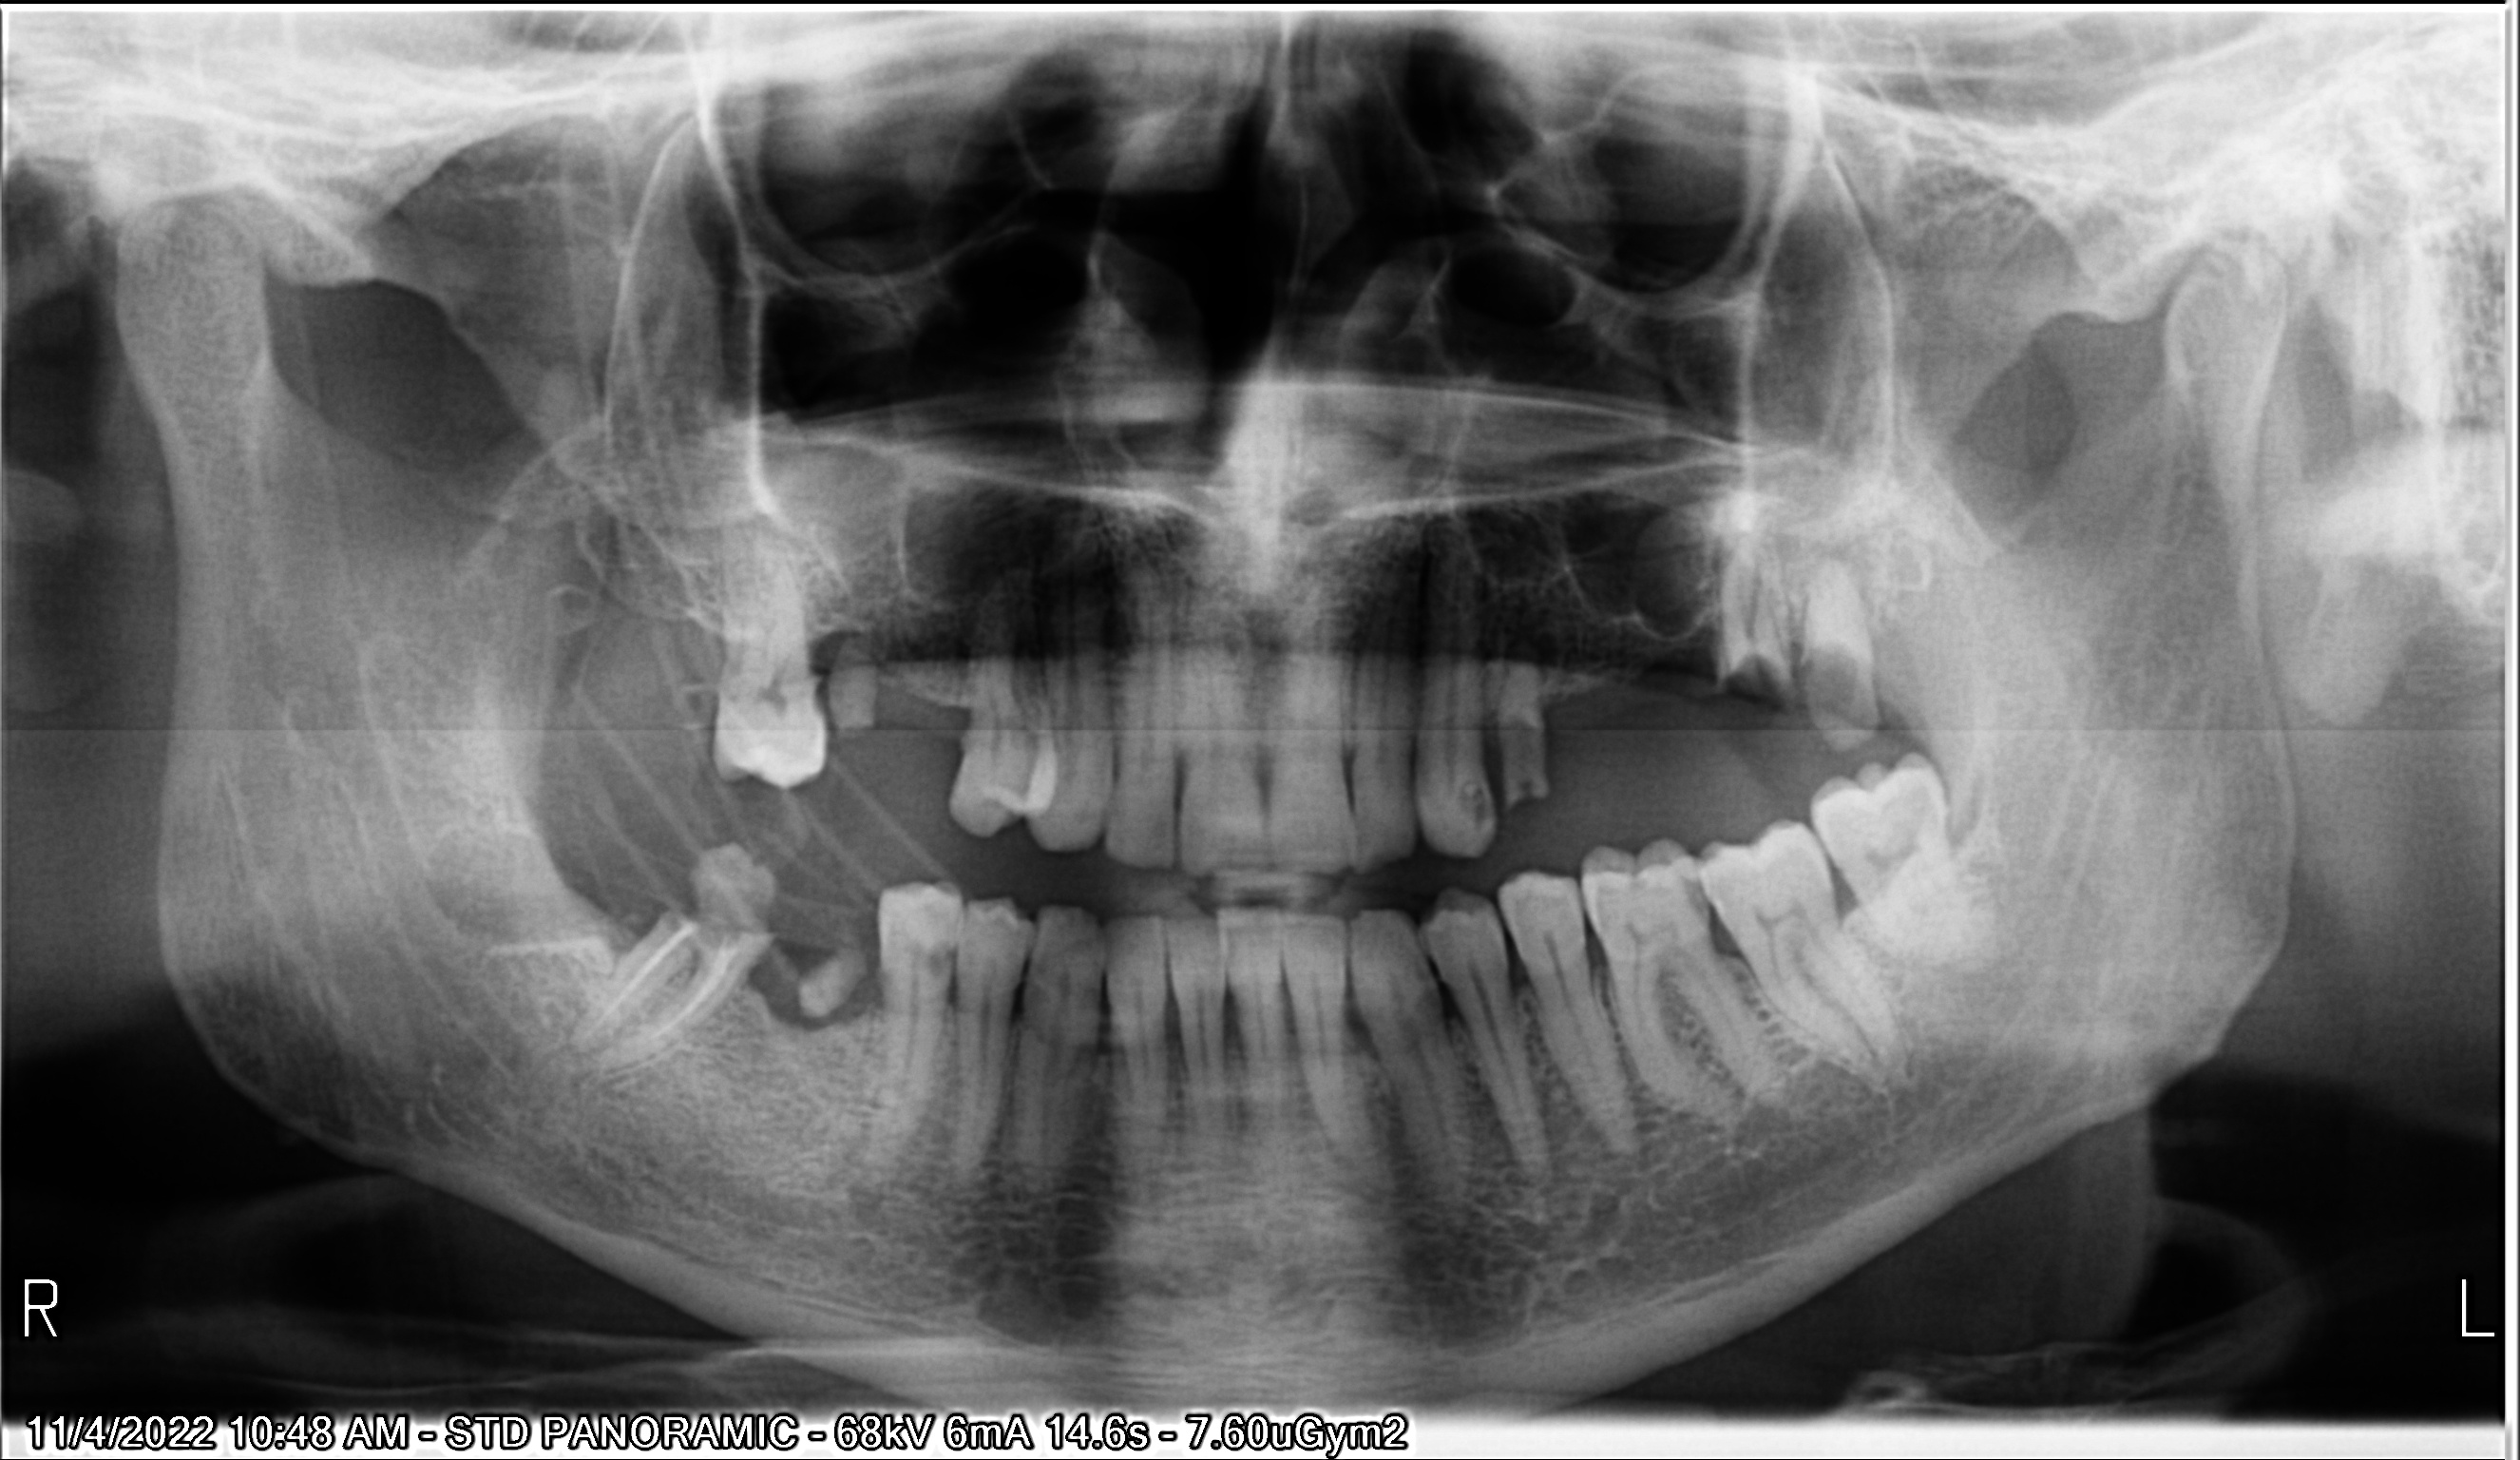API: (1490, 608, 1573, 687)
CAR: (656, 841, 785, 952), (1782, 633, 1888, 735), (1650, 857, 1723, 930), (1441, 770, 1506, 838), (920, 921, 955, 992)
END: (557, 916, 759, 1092)
ROT: (1483, 655, 1584, 819), (1735, 534, 1804, 709), (1693, 528, 1759, 709), (809, 624, 896, 747), (776, 939, 882, 1039)
